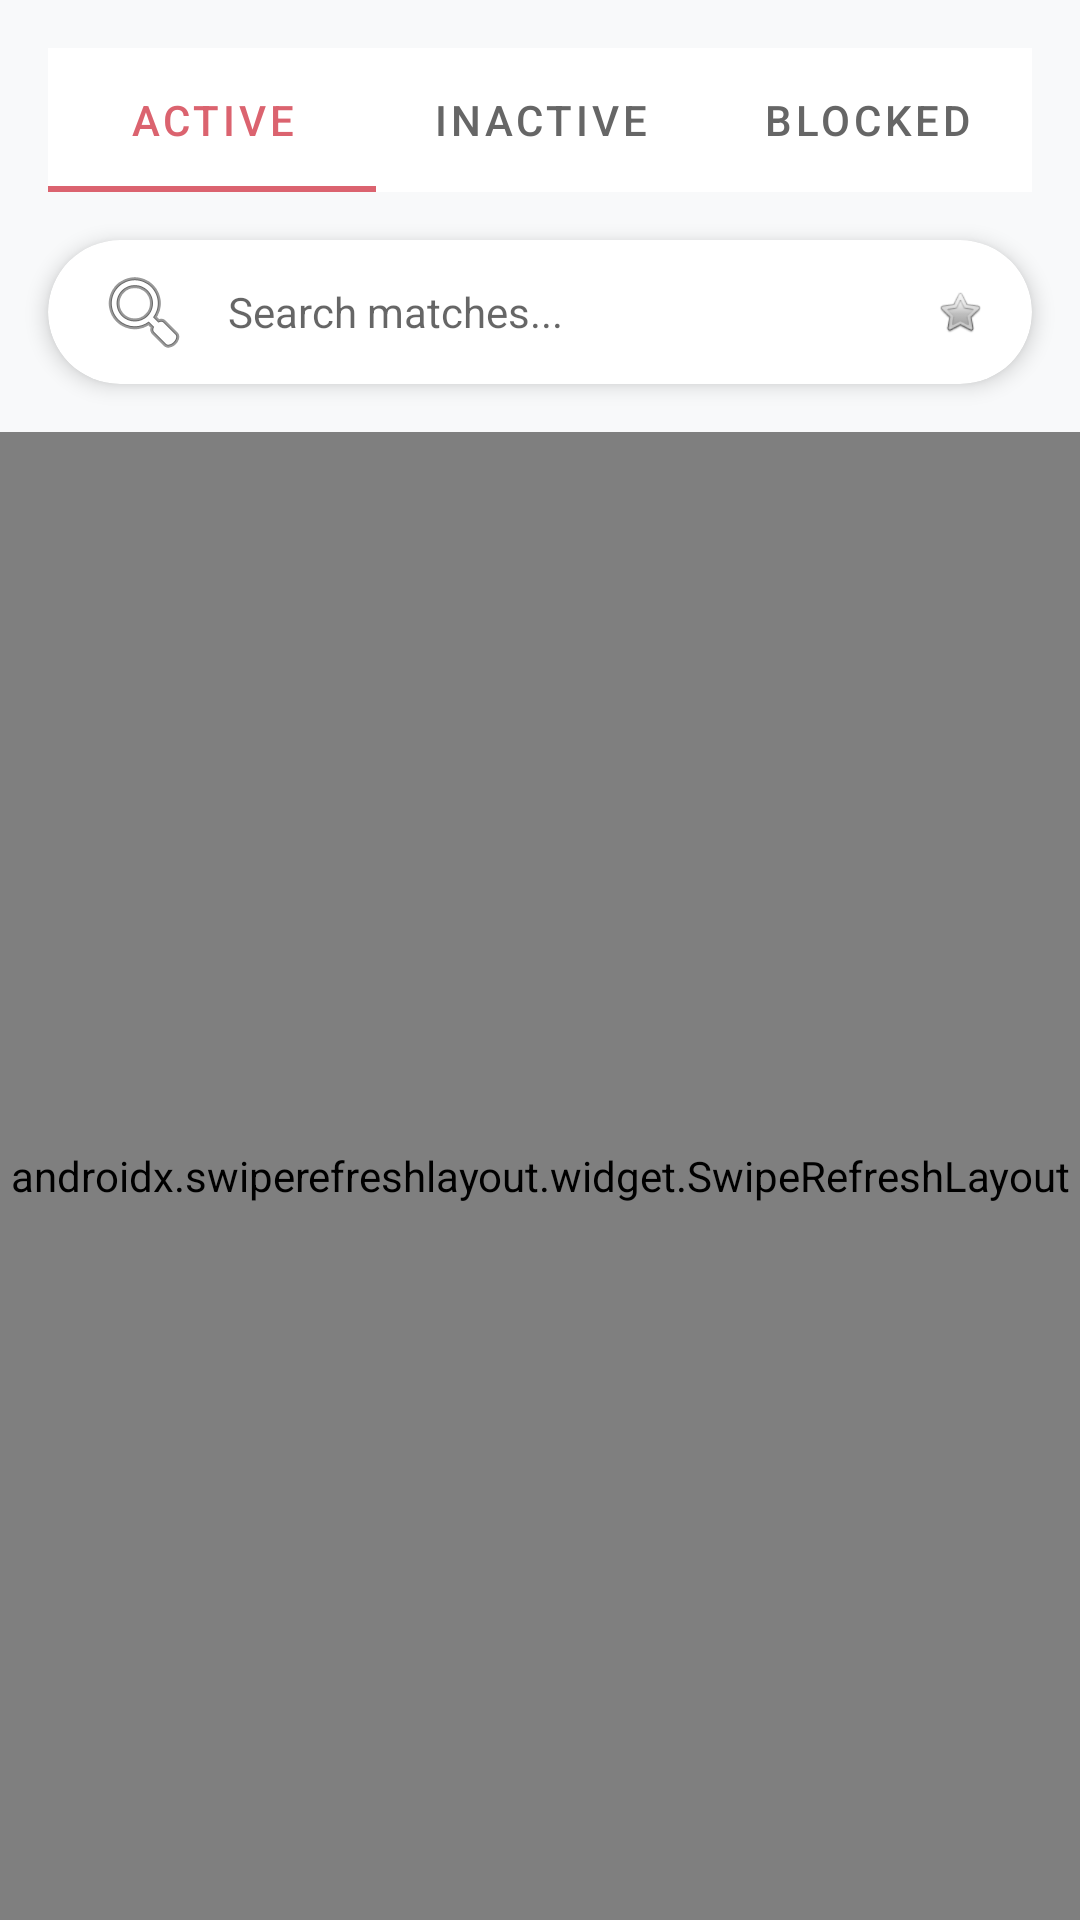

Named icons in this screenshot (1080 × 1920) and their centers, (x,y):
star off: (960,312)
